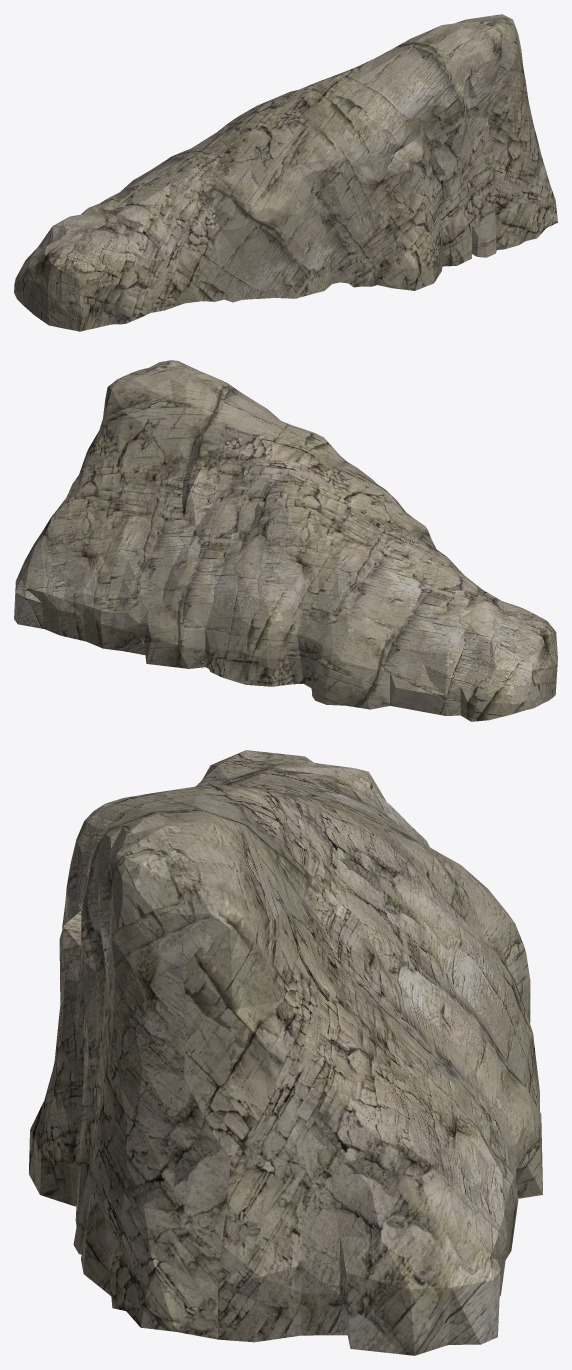
Rendered from tw2_1_rock_05_6-transformed.glb.
The picture shows the model from 3 angles, top to bottom: view 1: azimuth 30°, elevation 25°; view 2: azimuth 150°, elevation 25°; view 3: azimuth 270°, elevation 25°; orthographic projection. The views are drawn at different scales.
Visible parts, largest first — view 1: default; view 2: default; view 3: default.
Boxes of the visible parts, x1=… form: default: x1=14, y1=14, x2=557, y2=331; default: x1=14, y1=360, x2=557, y2=721; default: x1=29, y1=750, x2=542, y2=1355.
Bounding box in the file's own units: 25.05 × 10.24 × 11.13.
1 material, 1 textured.
